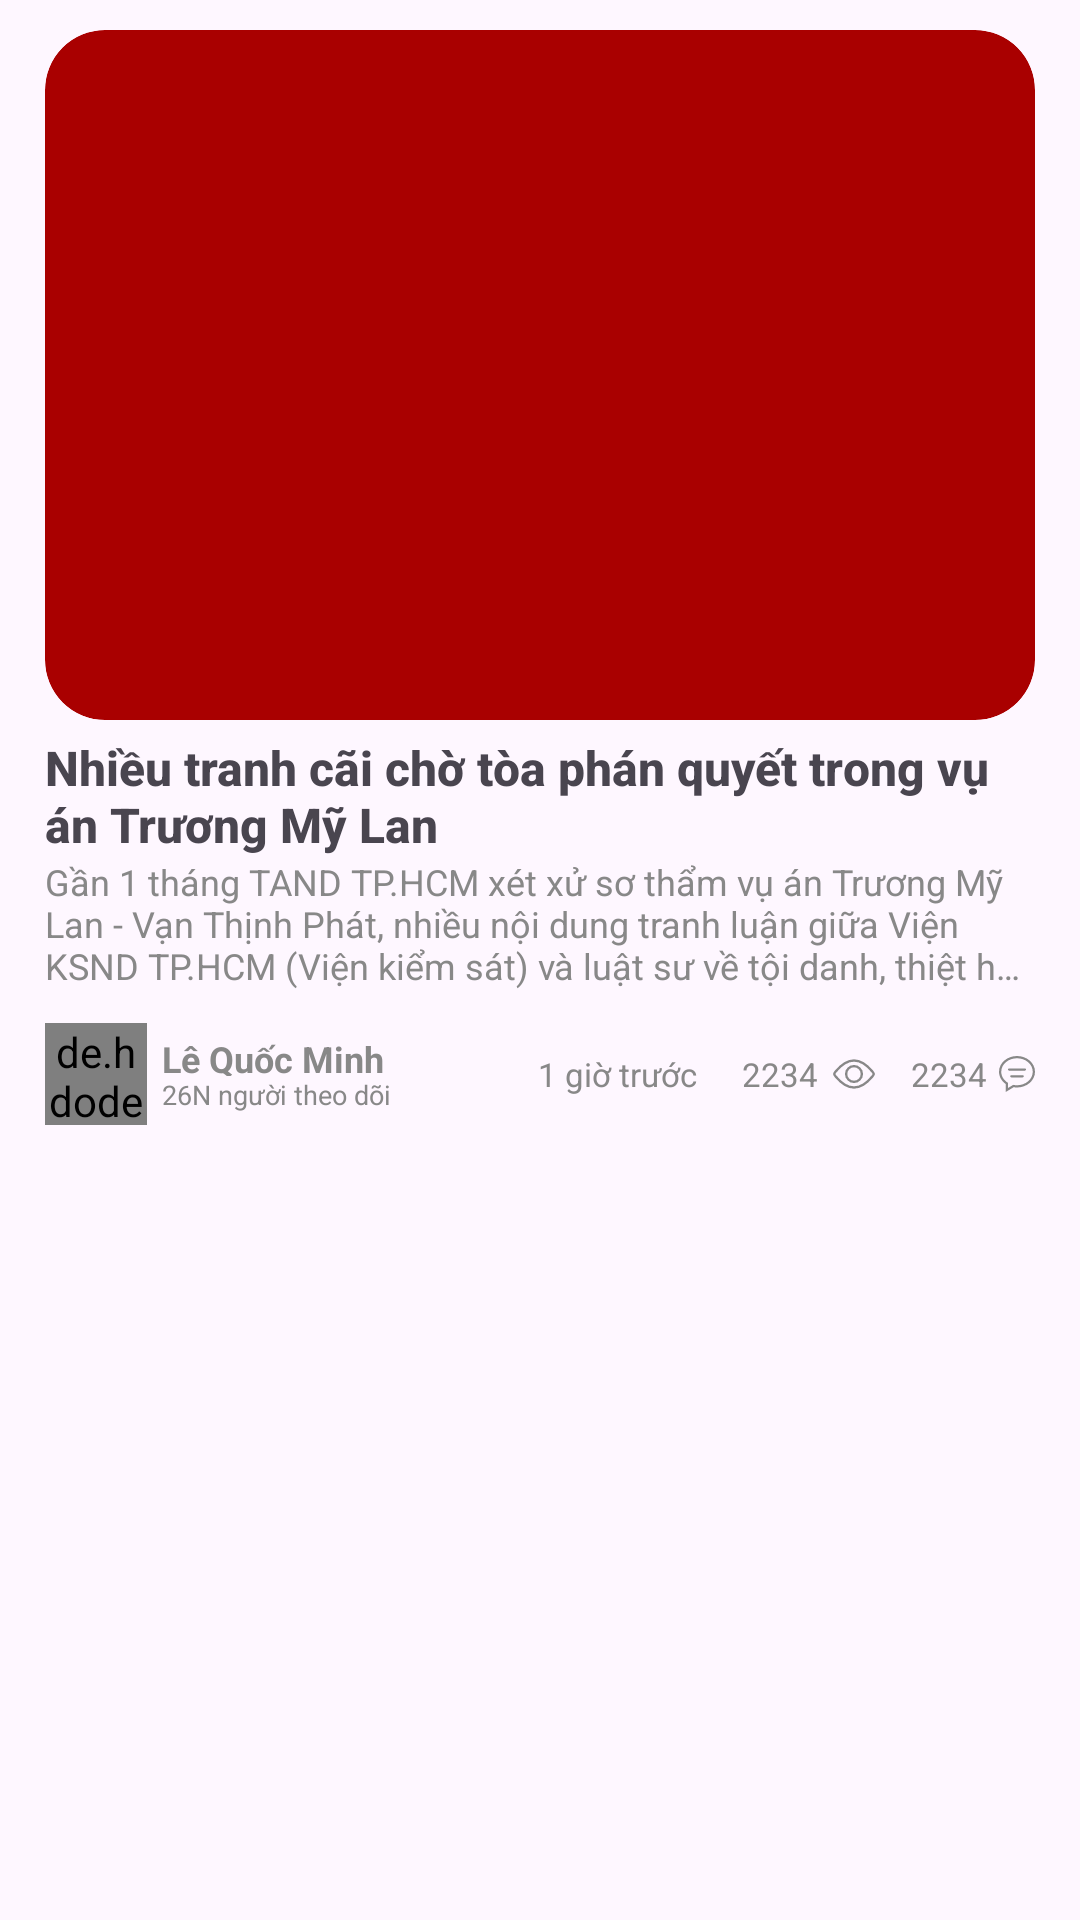

Icons on this 1080x1920 Android screen, each with its box as (x1, y1, x2, y2):
comment: (999, 1056, 1035, 1092)
view: (833, 1059, 875, 1089)
